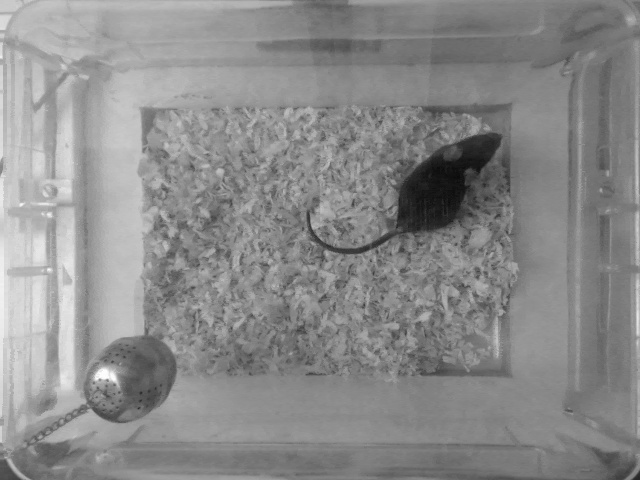mice: (304, 130, 507, 255)
